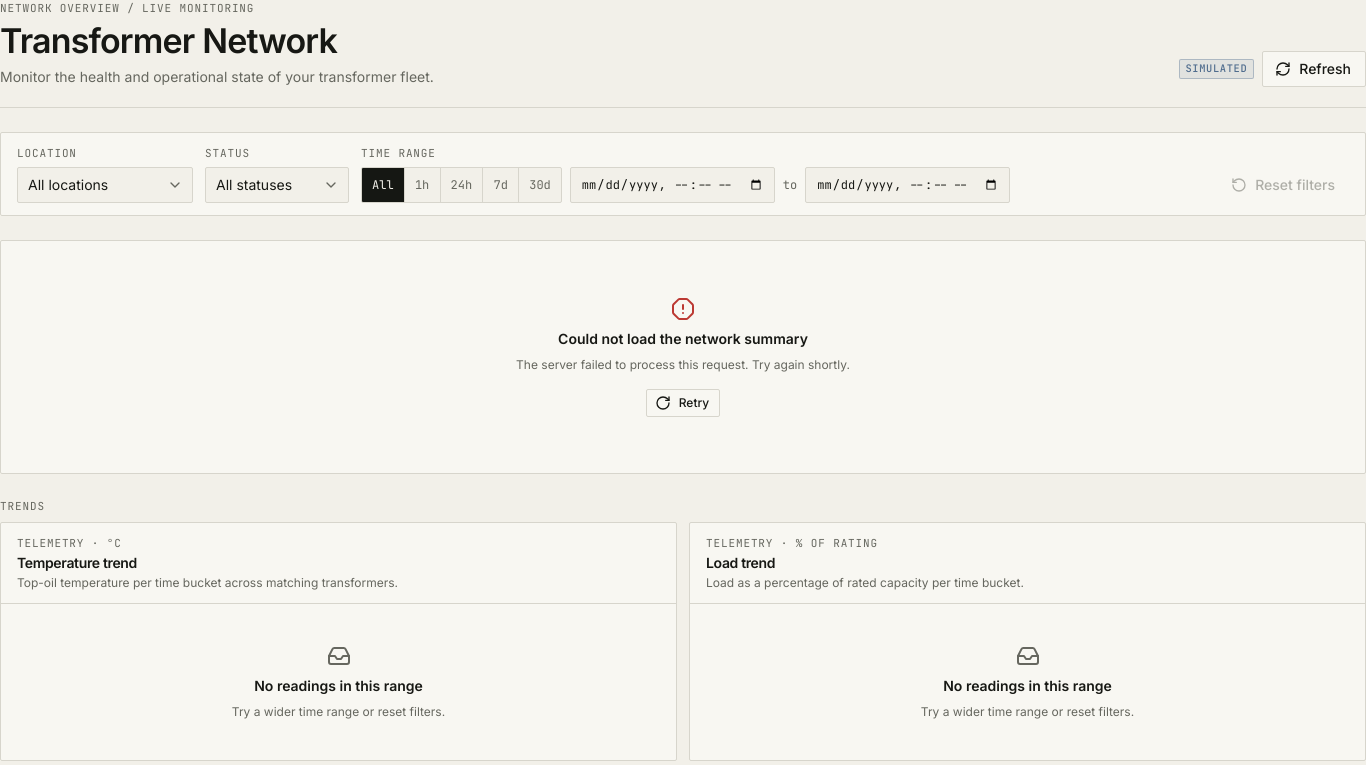
Scenario: DashboardPage › shows an error with Retry that refetches
Expected: the text "Could not load the network summary" is shown, left=558, top=328, right=808, bottom=348
What coordinates should you click on to do the following:
click the button "Retry"
I would click on:
 (683, 402)
Its box is left=646, top=388, right=720, bottom=416.
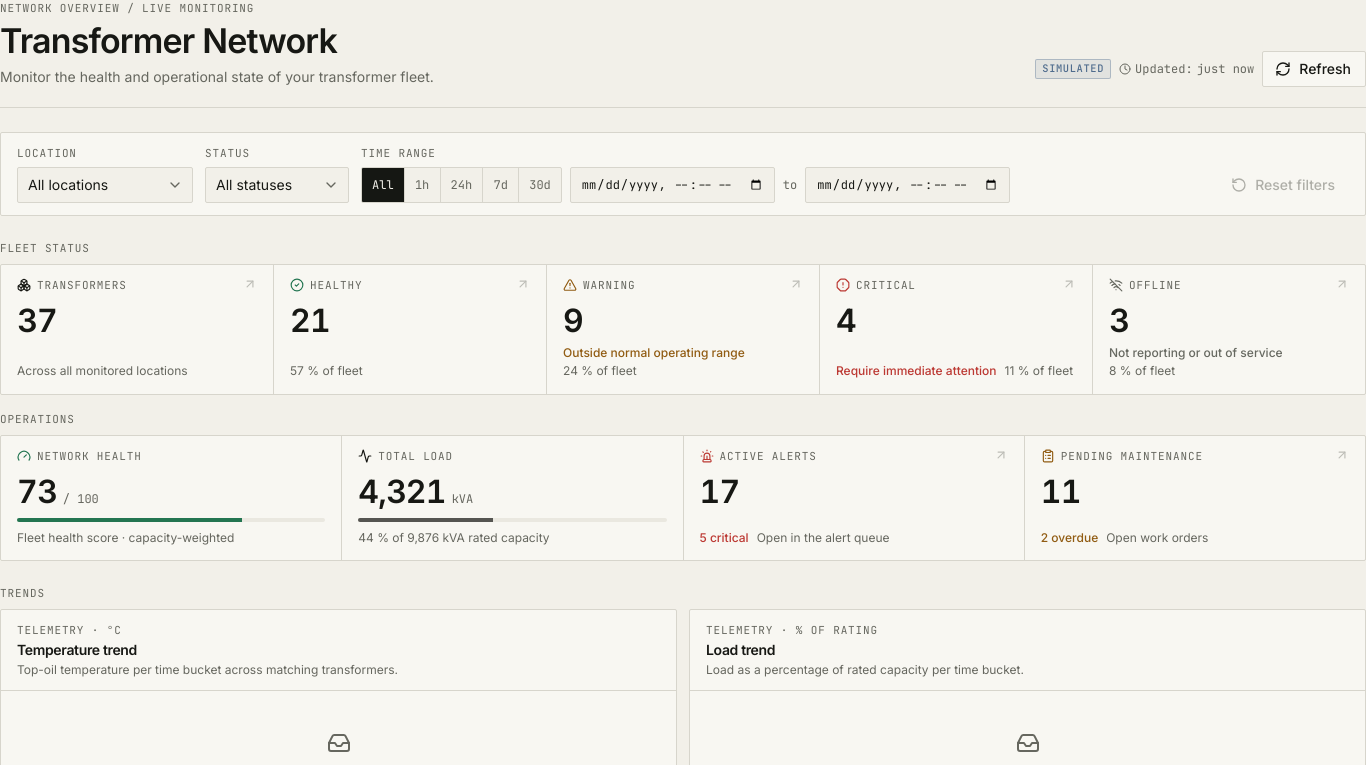
Expected: the text "37" is shown, left=17, top=304, right=57, bottom=336
